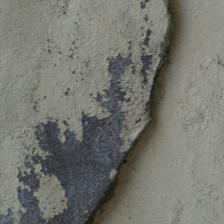Crack: (86, 3, 183, 221)
